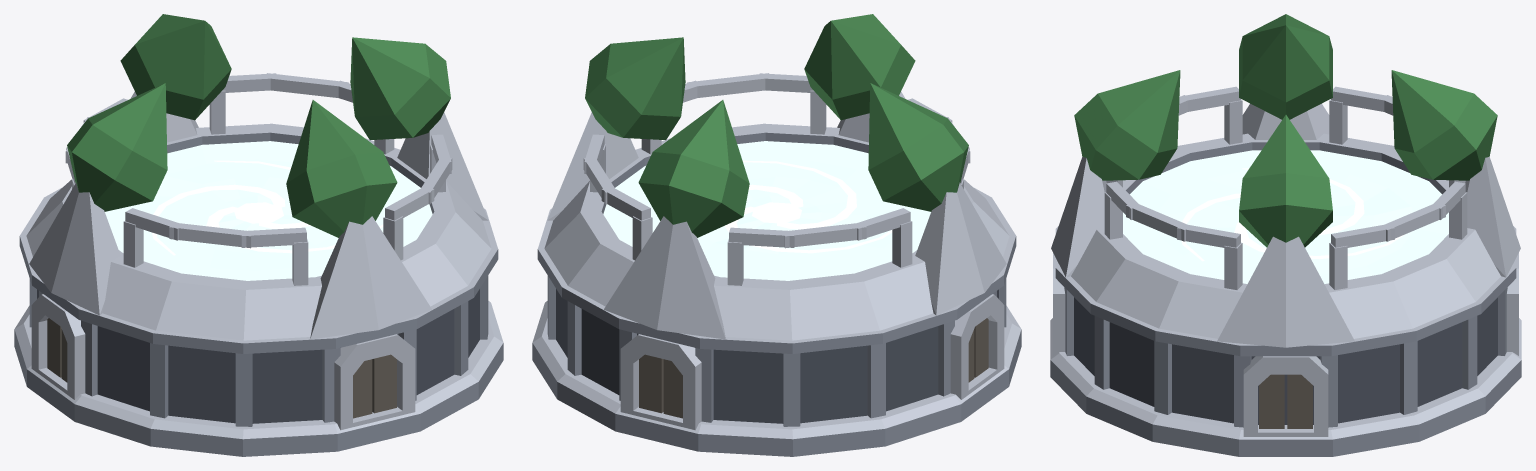
File: heal_station.glb
The picture shows the model from 3 angles, left to right: view 1: azimuth 30°, elevation 25°; view 2: azimuth 150°, elevation 25°; view 3: azimuth 270°, elevation 25°; orthographic projection. The views are drawn at different scales.
Visible parts, largest first — view 1: heal_station_v3; view 2: heal_station_v3; view 3: heal_station_v3.
Part boxes in pixels (left/top/right/bottom): heal_station_v3: left=14, top=14, right=503, bottom=456; heal_station_v3: left=532, top=14, right=1021, bottom=456; heal_station_v3: left=1050, top=14, right=1521, bottom=456.
Bounding box in the file's own units: 1.84 × 1.24 × 1.84.
